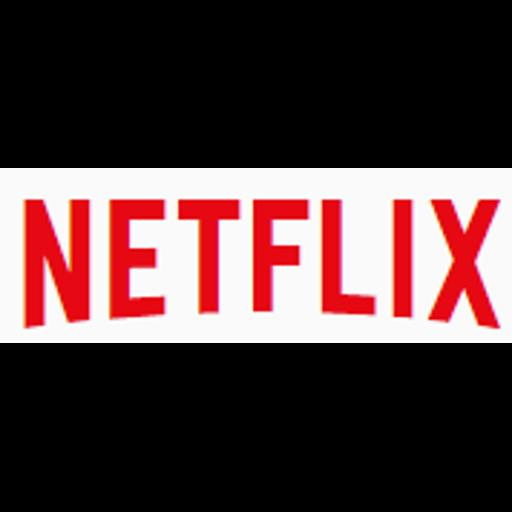Netflix: (0, 168, 512, 343)
